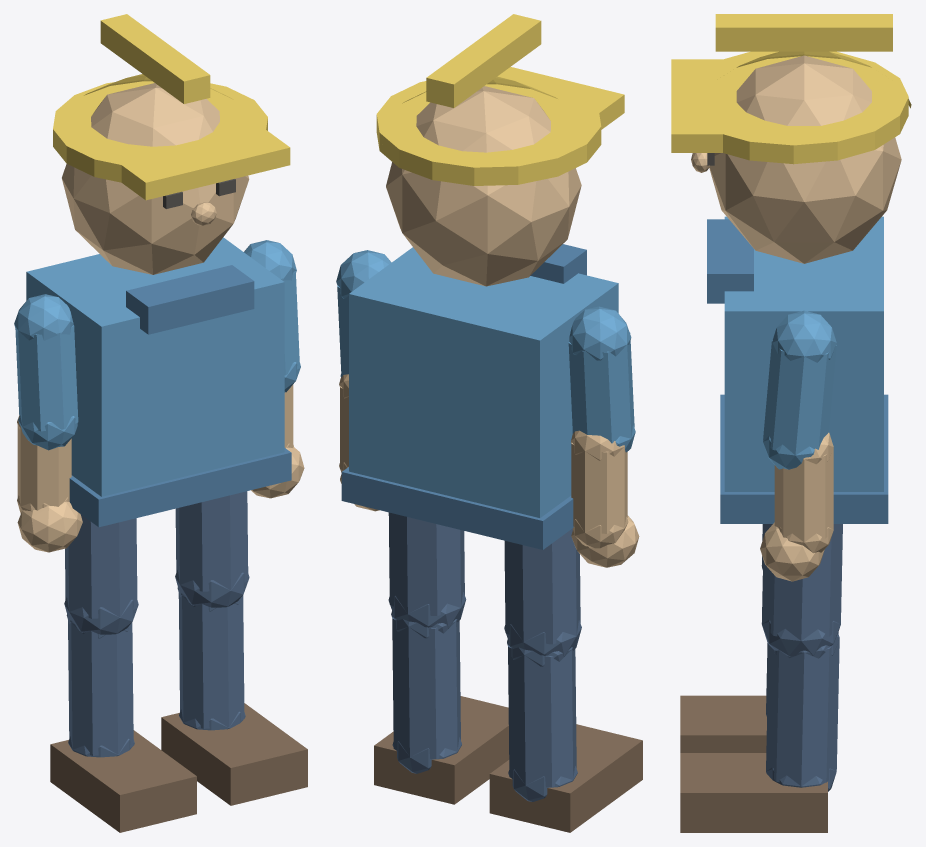
Rendered from worker.glb.
The picture shows the model from 3 angles, left to right: view 1: azimuth 30°, elevation 25°; view 2: azimuth 150°, elevation 25°; view 3: azimuth 270°, elevation 25°; orthographic projection. The views are drawn at different scales.
Parts seen in each view (by area): view 1: Body_blue_chunky_torso, HardHat_yellow_construction_helmet, Head_round_tan_face, LeftFoot_dark_boot, RightFoot_dark_boot, LeftUpperArm_blue_sleeve, RightLowerLeg_dark_pants, LeftLowerLeg_dark_pants, LeftUpperLeg_dark_pants, RightUpperLeg_dark_pants, Body_dark_blue_belt, Body_small_blue_collar (+5 smaller); view 2: Body_blue_chunky_torso, Head_round_tan_face, HardHat_yellow_construction_helmet, LeftLowerLeg_dark_pants, RightLowerLeg_dark_pants, LeftFoot_dark_boot, LeftUpperLeg_dark_pants, LeftUpperArm_blue_sleeve, RightUpperLeg_dark_pants, Body_dark_blue_belt, RightFoot_dark_boot, LeftForearm_tan_skin (+4 smaller); view 3: Body_blue_chunky_torso, Head_round_tan_face, HardHat_yellow_construction_helmet, RightFoot_dark_boot, RightLowerLeg_dark_pants, RightUpperArm_blue_sleeve, RightUpperLeg_dark_pants, RightForearm_tan_skin, LeftFoot_dark_boot, Body_dark_blue_belt, Body_small_blue_collar, RightHand_tan_mitten.
Part boxes in pixels (bbox=[...]): Body_blue_chunky_torso: bbox=[26, 237, 284, 496]; HardHat_yellow_construction_helmet: bbox=[53, 14, 290, 200]; Head_round_tan_face: bbox=[62, 83, 249, 274]; LeftFoot_dark_boot: bbox=[50, 730, 196, 832]; RightFoot_dark_boot: bbox=[161, 703, 307, 805]; LeftUpperArm_blue_sleeve: bbox=[14, 294, 78, 450]; RightLowerLeg_dark_pants: bbox=[177, 587, 245, 730]; LeftLowerLeg_dark_pants: bbox=[66, 614, 134, 757]; LeftUpperLeg_dark_pants: bbox=[64, 514, 138, 634]; RightUpperLeg_dark_pants: bbox=[175, 491, 249, 607]; Body_dark_blue_belt: bbox=[69, 448, 291, 527]; Body_small_blue_collar: bbox=[126, 265, 254, 334]; Body_blue_chunky_torso: bbox=[349, 247, 618, 517]; Head_round_tan_face: bbox=[386, 86, 581, 286]; HardHat_yellow_construction_helmet: bbox=[376, 14, 624, 185]; LeftLowerLeg_dark_pants: bbox=[507, 639, 577, 801]; RightLowerLeg_dark_pants: bbox=[391, 611, 461, 773]; LeftFoot_dark_boot: bbox=[489, 724, 642, 832]; LeftUpperLeg_dark_pants: bbox=[504, 528, 581, 656]; LeftUpperArm_blue_sleeve: bbox=[568, 306, 635, 452]; RightUpperLeg_dark_pants: bbox=[388, 512, 466, 628]; Body_dark_blue_belt: bbox=[341, 467, 573, 549]; RightFoot_dark_boot: bbox=[374, 696, 509, 804]; LeftForearm_tan_skin: bbox=[571, 430, 628, 548]; Body_blue_chunky_torso: bbox=[724, 216, 883, 491]; Head_round_tan_face: bbox=[709, 55, 901, 263]; HardHat_yellow_construction_helmet: bbox=[671, 14, 911, 164]; RightFoot_dark_boot: bbox=[680, 753, 827, 832]; RightLowerLeg_dark_pants: bbox=[766, 633, 839, 791]; RightUpperArm_blue_sleeve: bbox=[763, 310, 836, 469]; RightUpperLeg_dark_pants: bbox=[761, 524, 842, 656]; RightForearm_tan_skin: bbox=[774, 432, 833, 553]; LeftFoot_dark_boot: bbox=[680, 695, 766, 752]; Body_dark_blue_belt: bbox=[720, 394, 888, 523]; Body_small_blue_collar: bbox=[707, 219, 753, 303]; RightHand_tan_mitten: bbox=[760, 522, 824, 581].
Size of the model in its own units: 0.58 by 1.43 by 0.4066.
